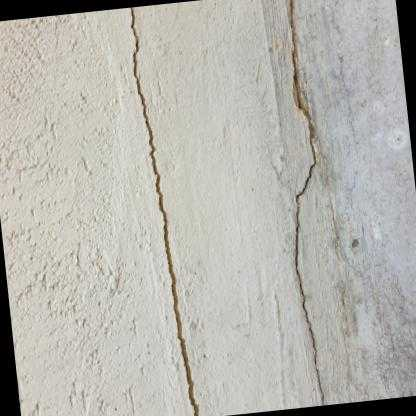crack: (127, 10, 200, 416), (287, 0, 326, 405)
